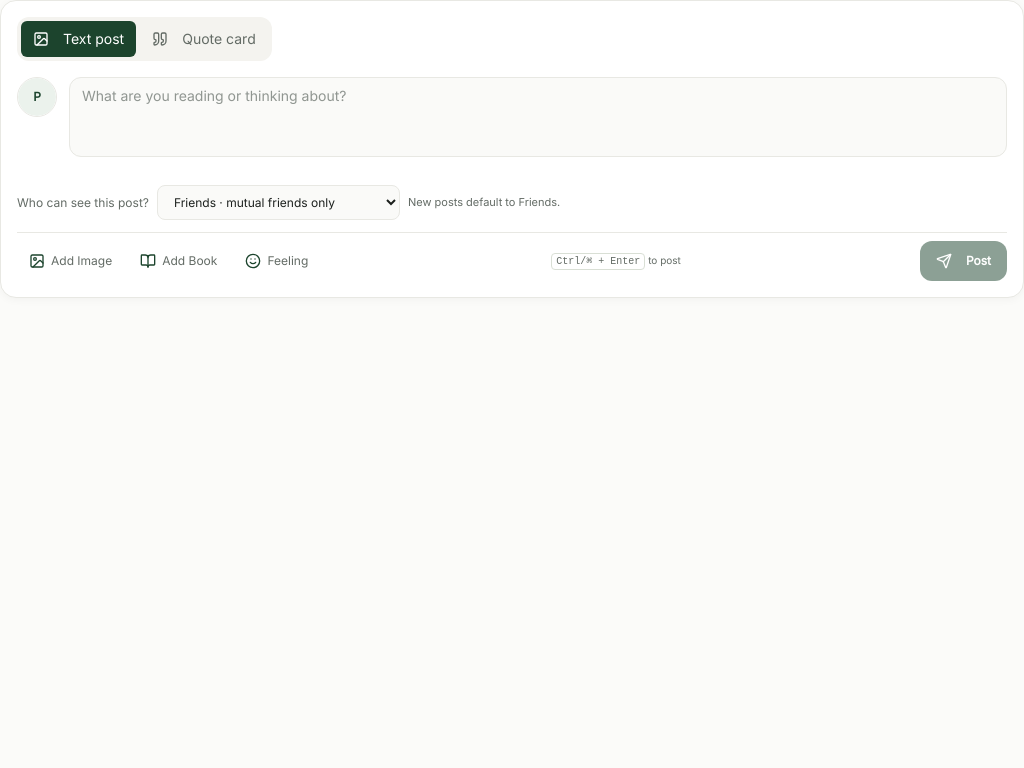
Test: FeedComposer › switches to quote card mode and submits quote with Cmd+Enter
Later steps or results of the test are not shown.
Click the button "Quote card" at (204, 39), box [140,21,268,57]
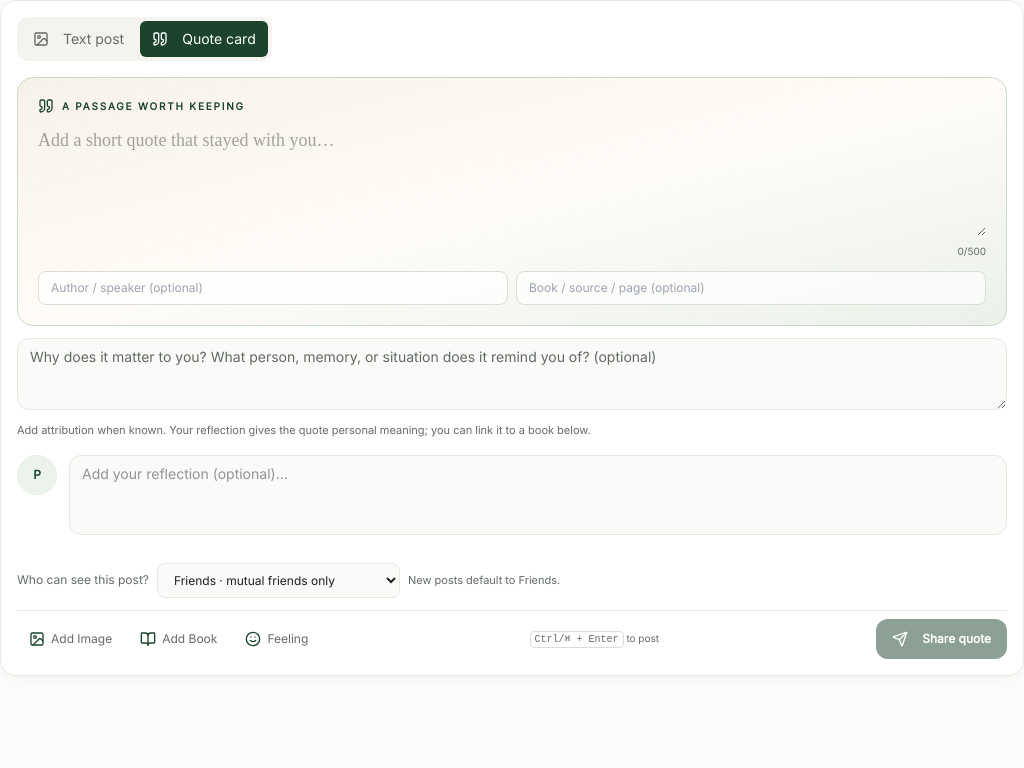
Expected: the text "A passage worth keeping" is shown, [38,98,245,114]
